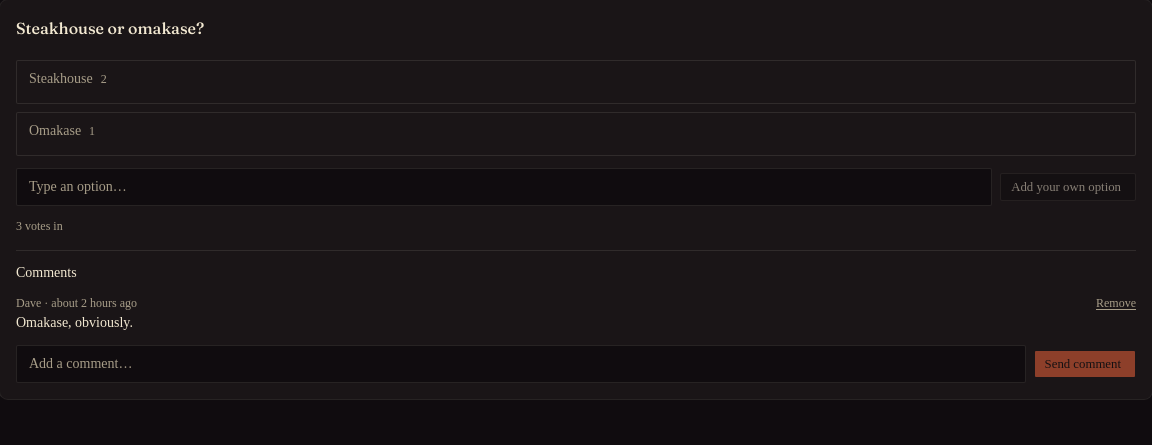
Test: PollCard comment thread (#620) › surfaces the error copy when a delete is rejected, keeping the row
This screenshot has width=1152, height=445.
Click the button with aria-label "Delete comment".
click(1116, 303)  # box [1096, 295, 1136, 311]
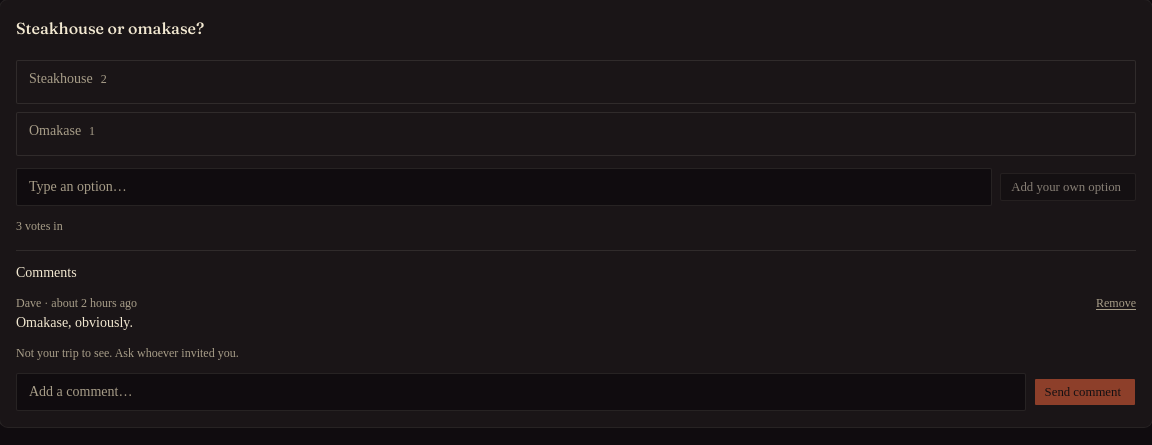
Expected: the text "Omakase, obviously." is shown, [16, 315, 133, 330]
Result: the message reads "Not your trip to see. Ask whoever invited you." at [16, 346, 239, 360]
